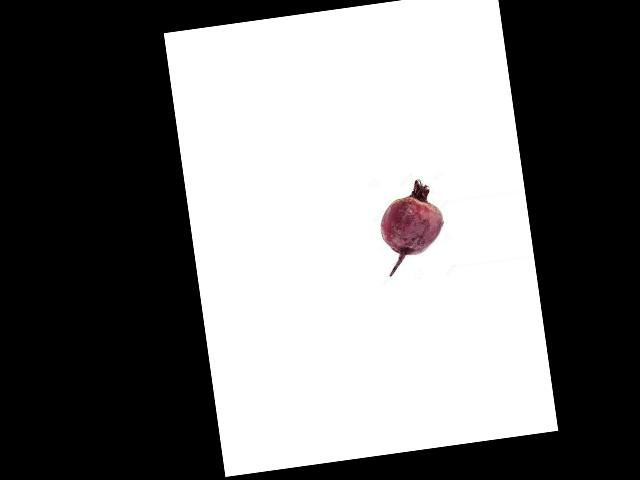beet: (374, 177, 448, 275)
